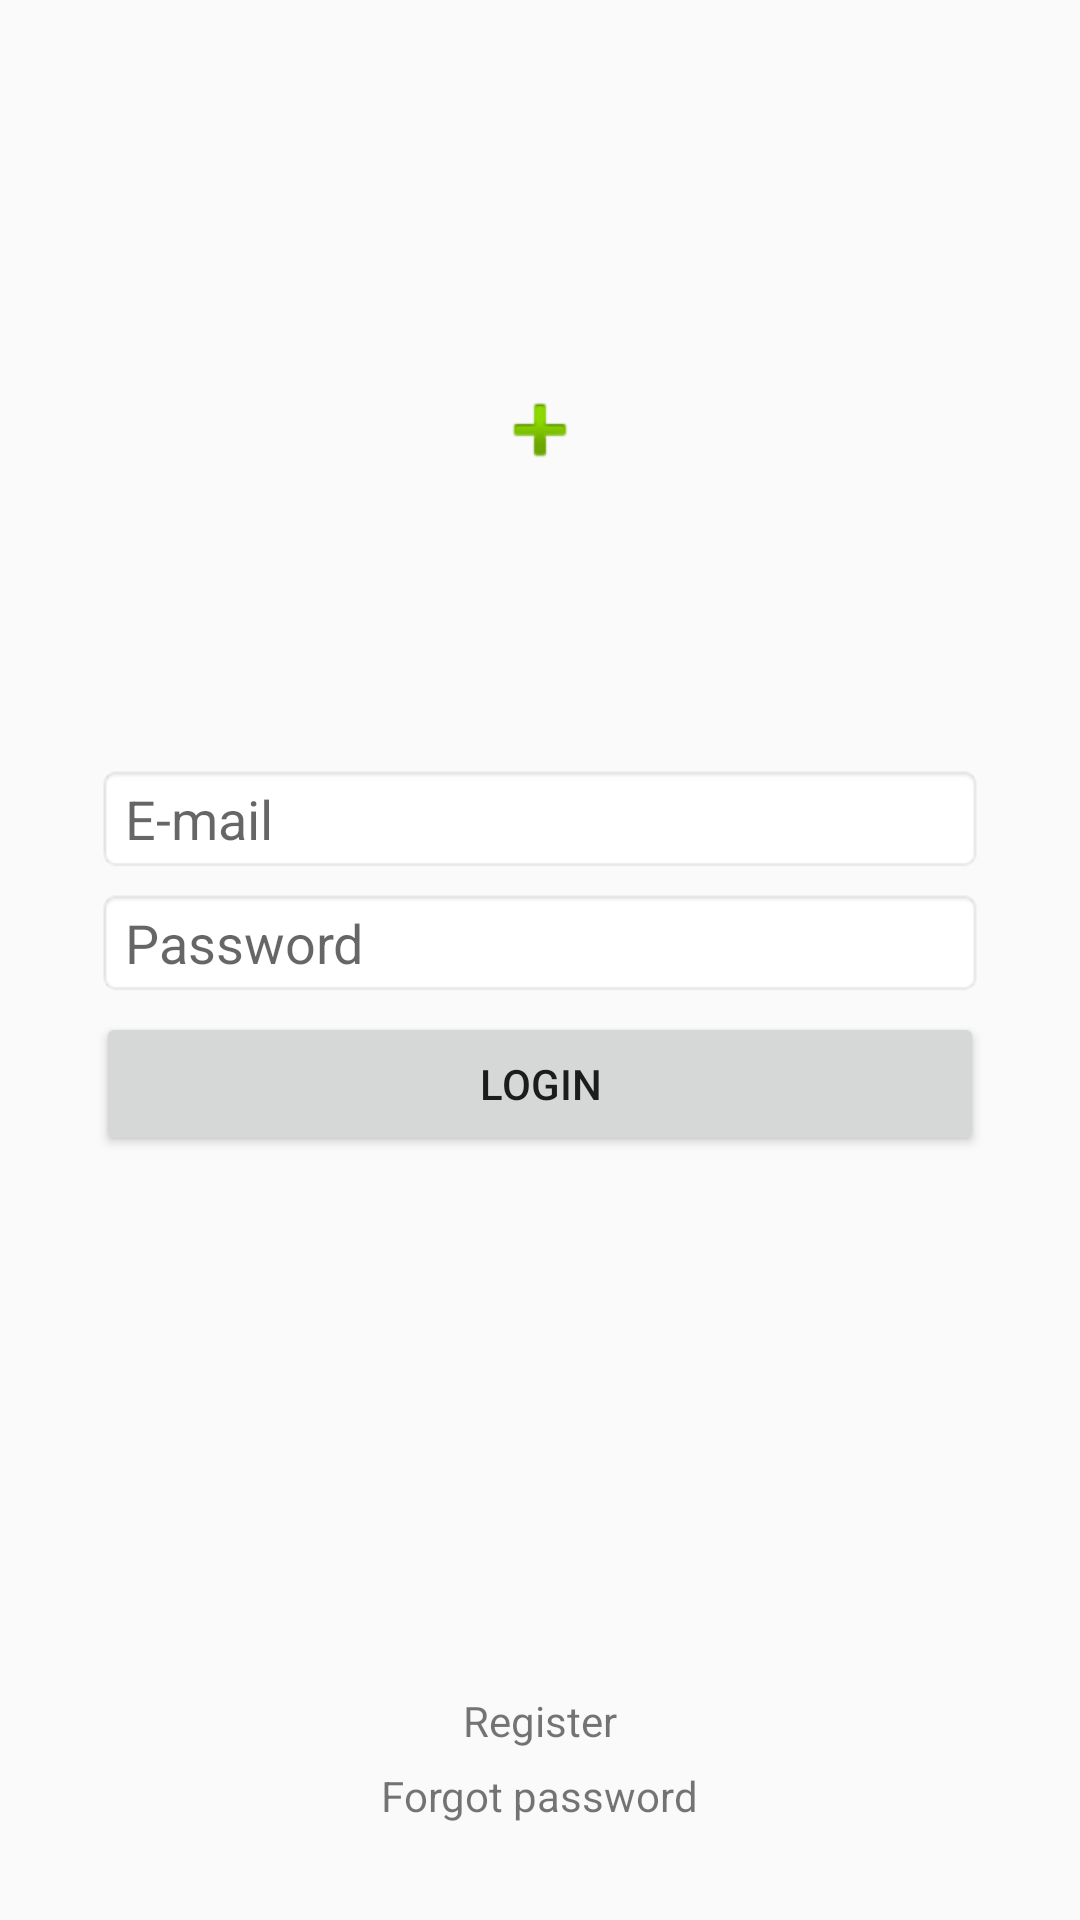

Icon click points for this 1080px x 1920px phone screenshot, format point (x, y):
add: point (540, 430)
